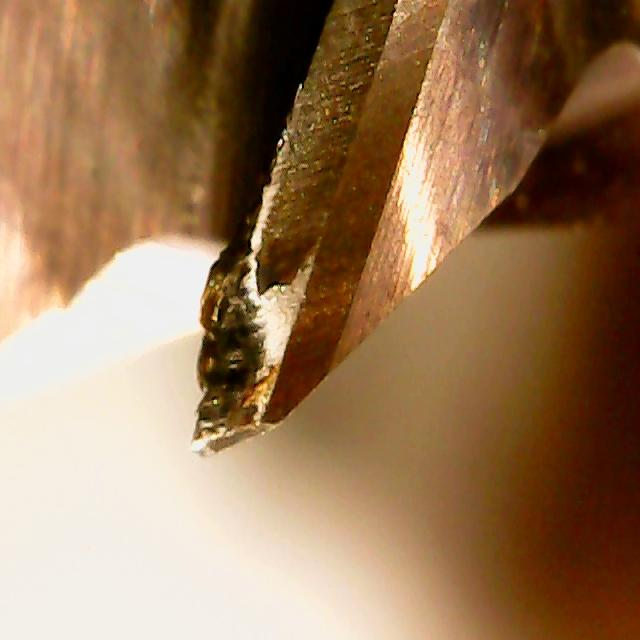Tool-wear-class-3: (178, 232, 344, 470)
